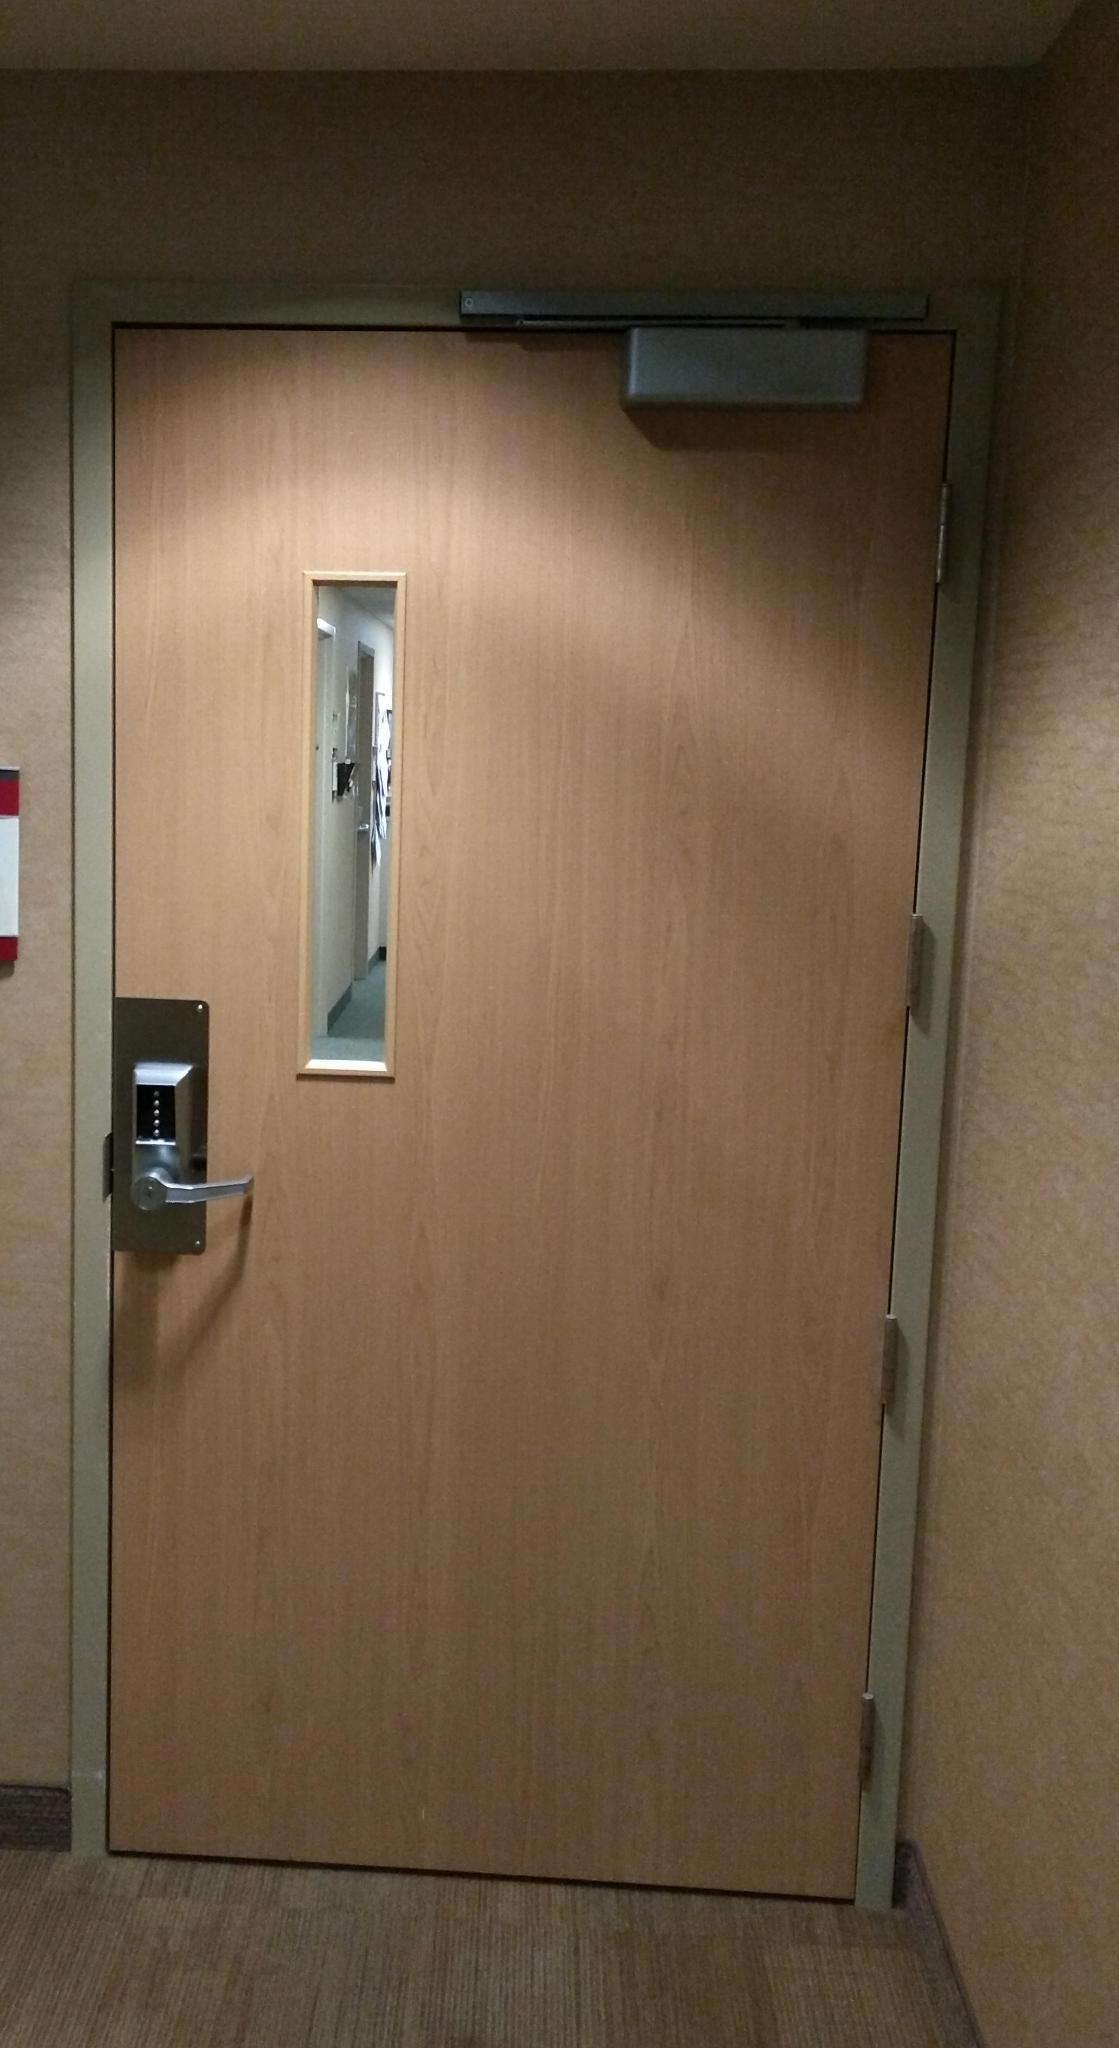door: (113, 366, 886, 1824)
handle: (135, 1143, 259, 1259)
